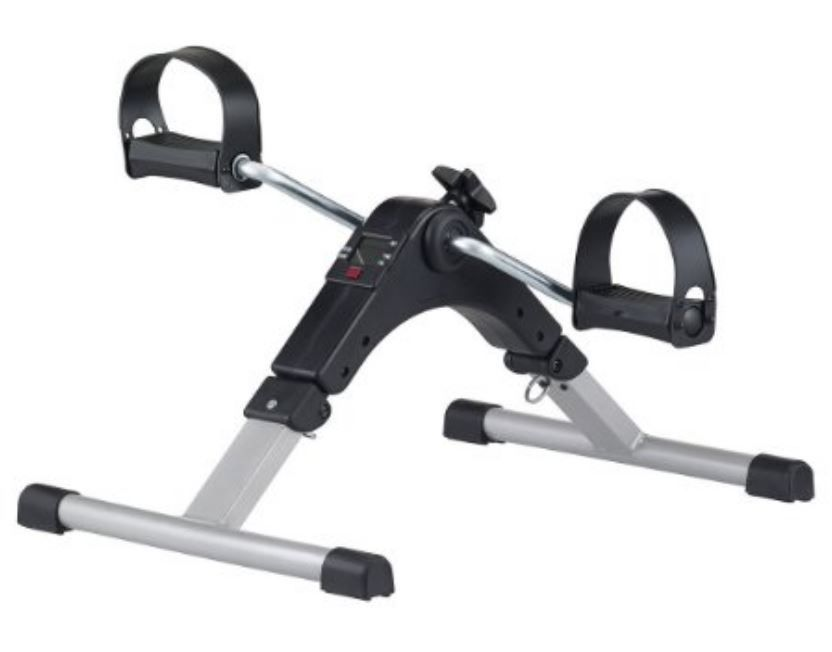gym_bike: (12, 39, 823, 612)
